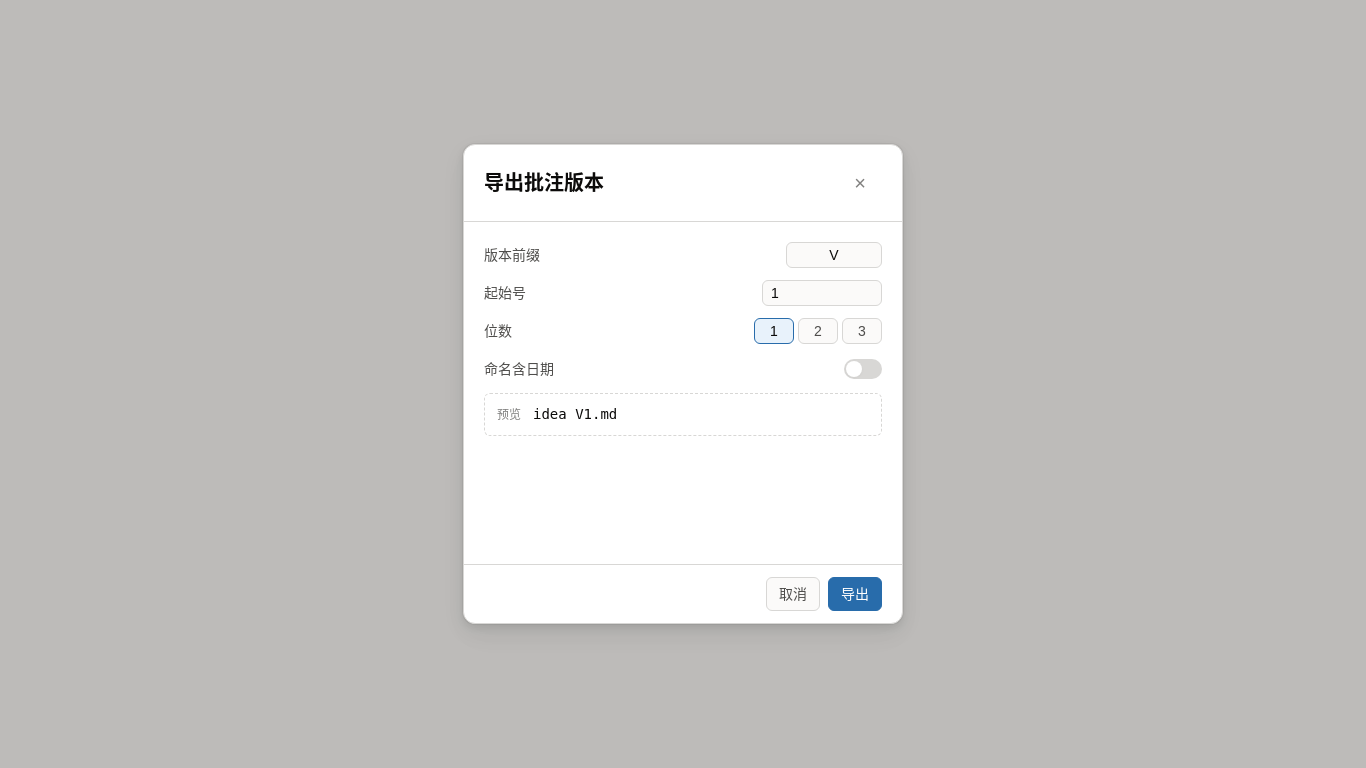
Test: ReviewExportDialog › 导出成功：listDirectory → nextReviewVersionFileName → writeFile，成功态显示新文件名
The width and height of the screenshot is (1366, 768).
Click the button "导出": (855, 594) x1=828 y1=577 x2=882 y2=611
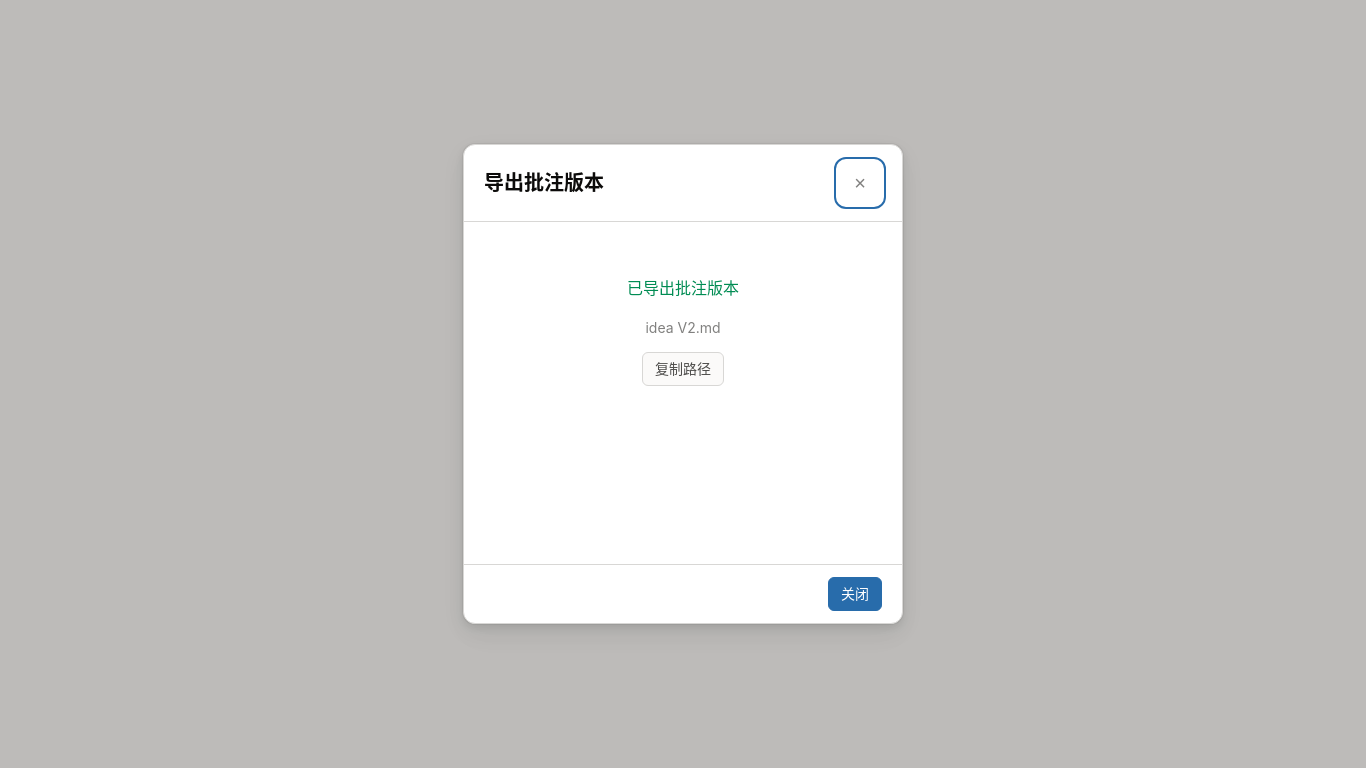
Check: the text "idea V2.md" is shown, box x1=645 y1=315 x2=720 y2=340
